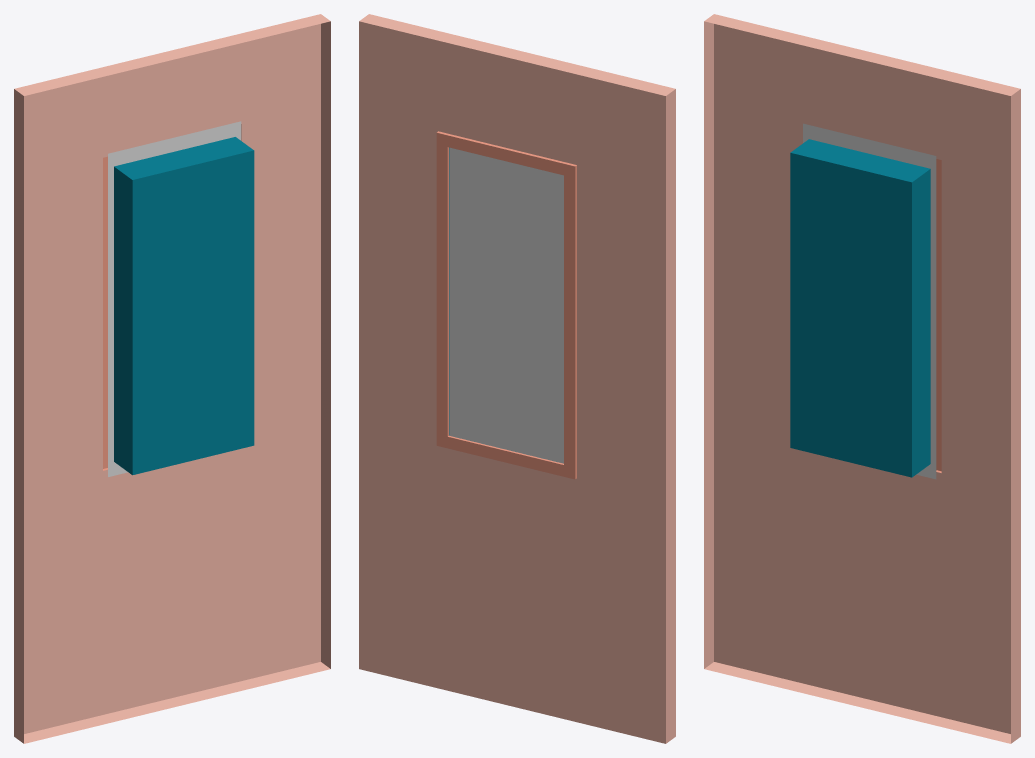
The model's file is SwimmingPool.fbx.
3 views of the same model, side by side, from view 1: azimuth 30°, elevation 25°; view 2: azimuth 150°, elevation 25°; view 3: azimuth 330°, elevation 25° (orthographic).
Parts seen in each view (by area): view 1: Cube, Plane; view 2: Cube, Plane; view 3: Cube, Plane.
Boxes of the visible parts, x1,y1,x2,y2 form: Cube: (14,14,330,743); Plane: (108,121,241,476); Cube: (359,14,675,743); Plane: (449,147,563,463); Cube: (704,14,1020,743); Plane: (803,123,936,479).
Size of the model in its own units: 1.56 by 3.15 by 0.2023.
